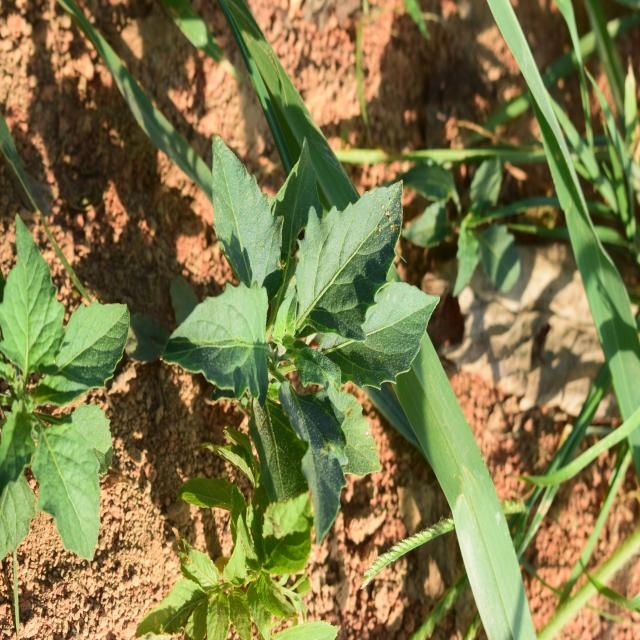Black_nightshade: (181, 150, 424, 491), (0, 256, 118, 569)
